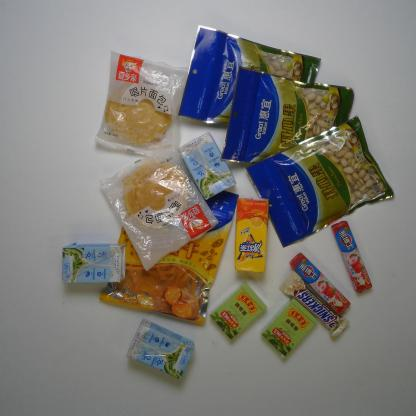Candy: (288, 251, 352, 317), (260, 296, 318, 358), (210, 280, 267, 342), (330, 220, 374, 294)
Chocolate: (278, 270, 350, 338)
Dessert: (98, 143, 220, 272), (94, 49, 192, 165)
Dried Fruit: (99, 163, 241, 329), (245, 113, 396, 249), (178, 22, 323, 135), (219, 65, 358, 170)
Drink: (232, 196, 270, 276)
Milk: (125, 317, 195, 381), (177, 131, 238, 202), (60, 241, 127, 285)
